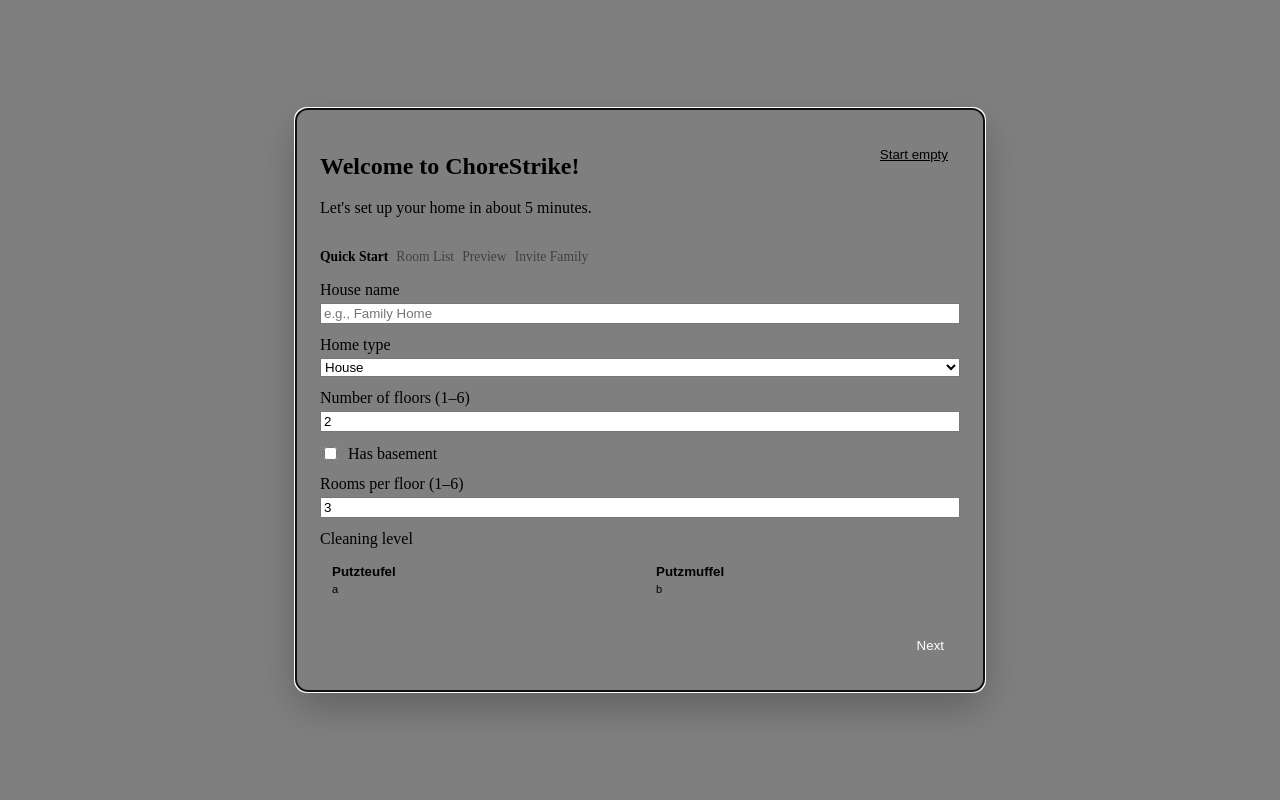
Test: SetupWizard.vue › apartment pins one floor and hides the basement option; house restores defaults (CR-027-03)
Expected: the checkbox with test id "wizard-basement" is shown, top-left (324, 447), bottom-right (337, 460)
Select "Apartment" in the dropdown with test id "wizard-home-type". click: coordinates (640, 368)
box: top-left (320, 358), bottom-right (960, 377)
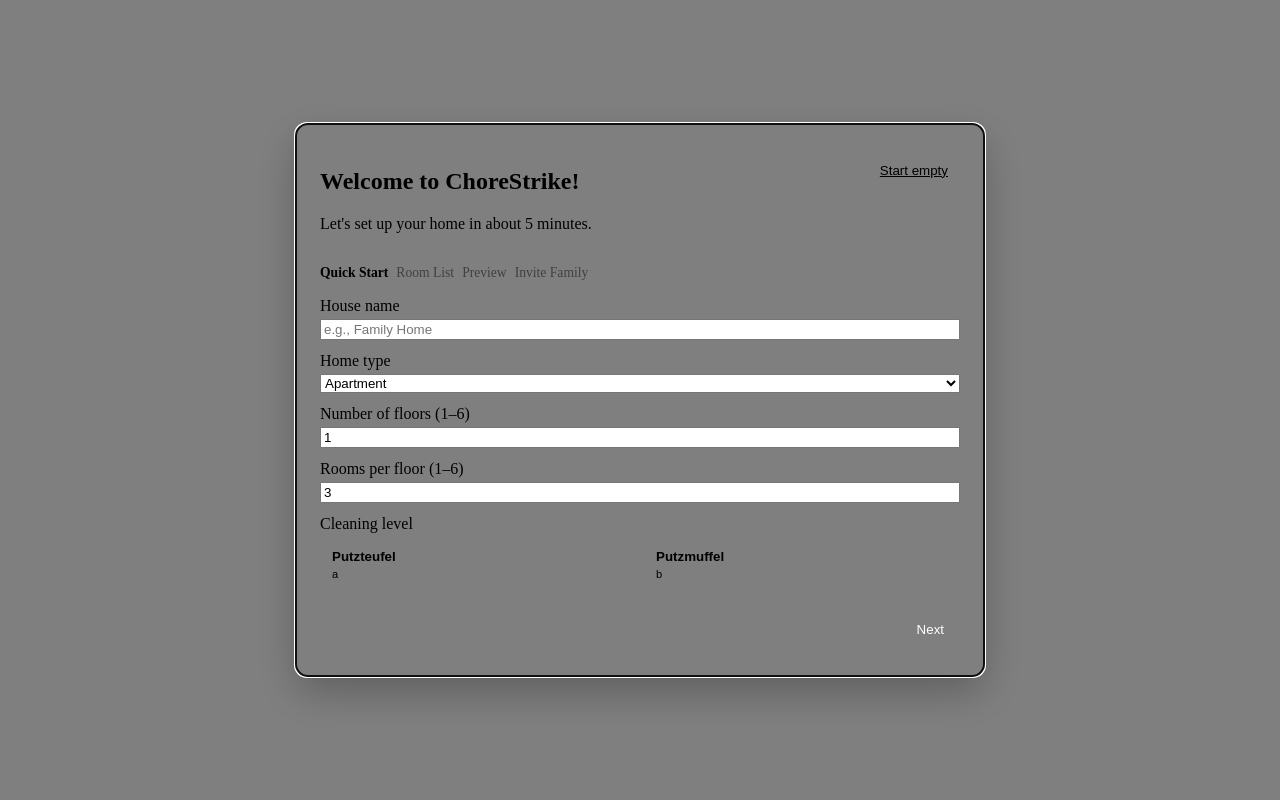
Select "House" in the dropdown with test id "wizard-home-type". click: coordinates (640, 383)
box: top-left (320, 374), bottom-right (960, 393)
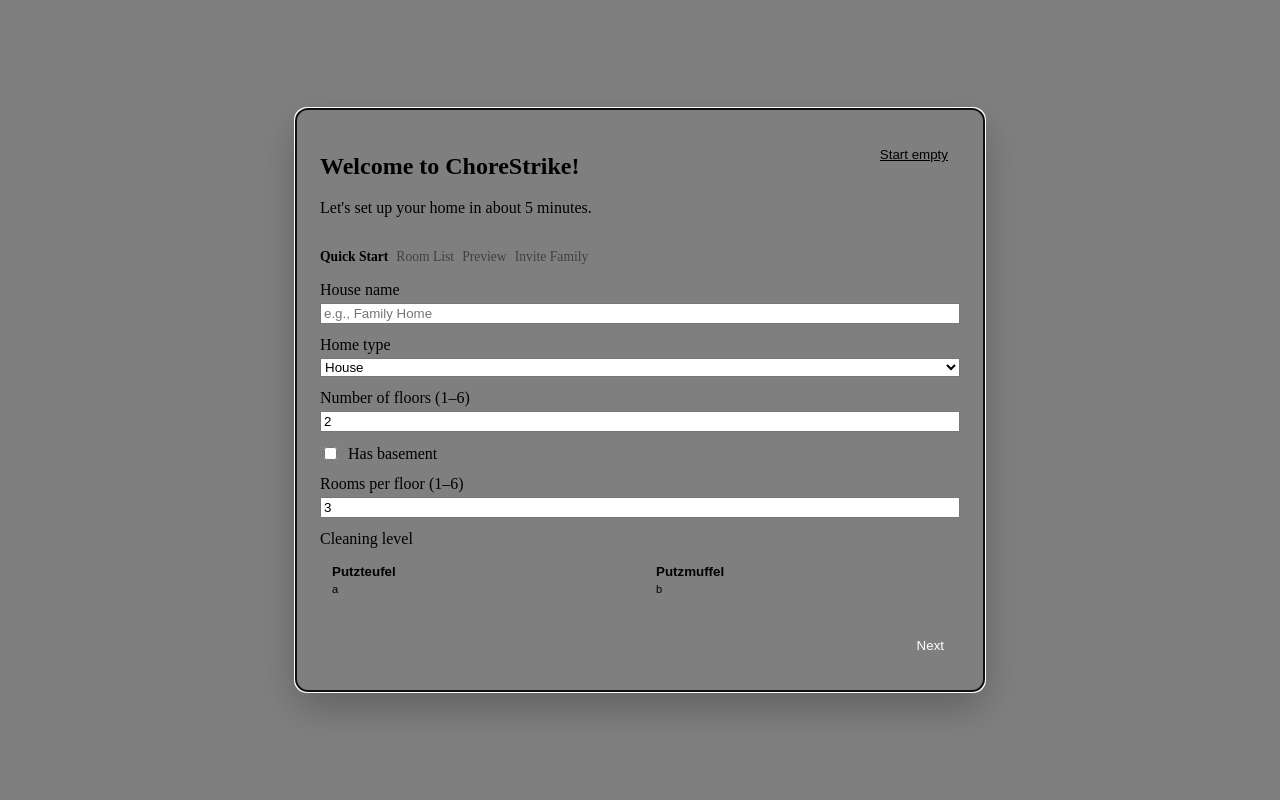
Result: the checkbox with test id "wizard-basement" is shown at top-left (324, 447), bottom-right (337, 460)
